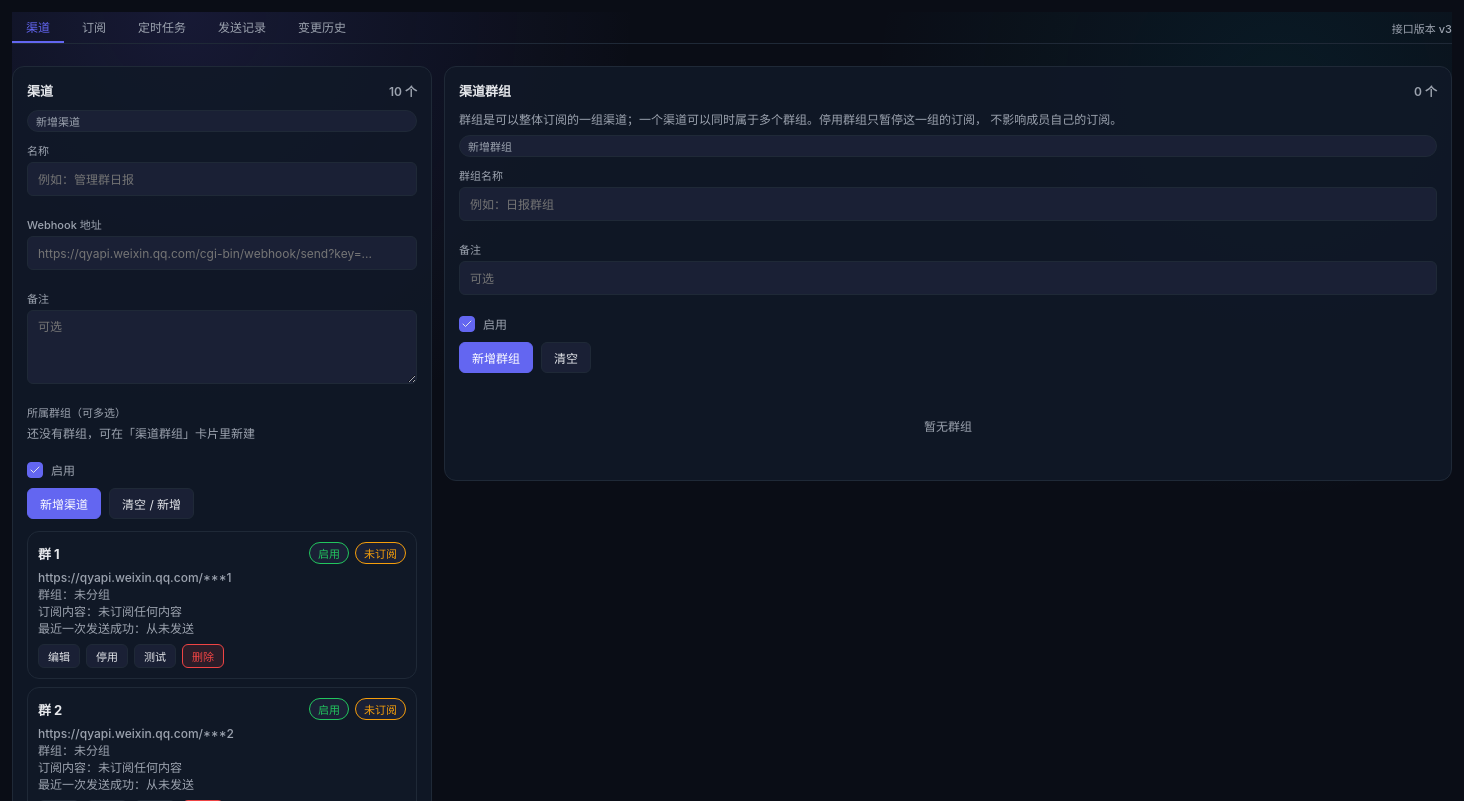
Scenario: 订阅多选列表在 0 类内容时的空态（U13） › 没有内容类型时给空态，不再让人"先选一类内容"
Click the button "订阅".
click(94, 28)  # box [68,12,120,43]
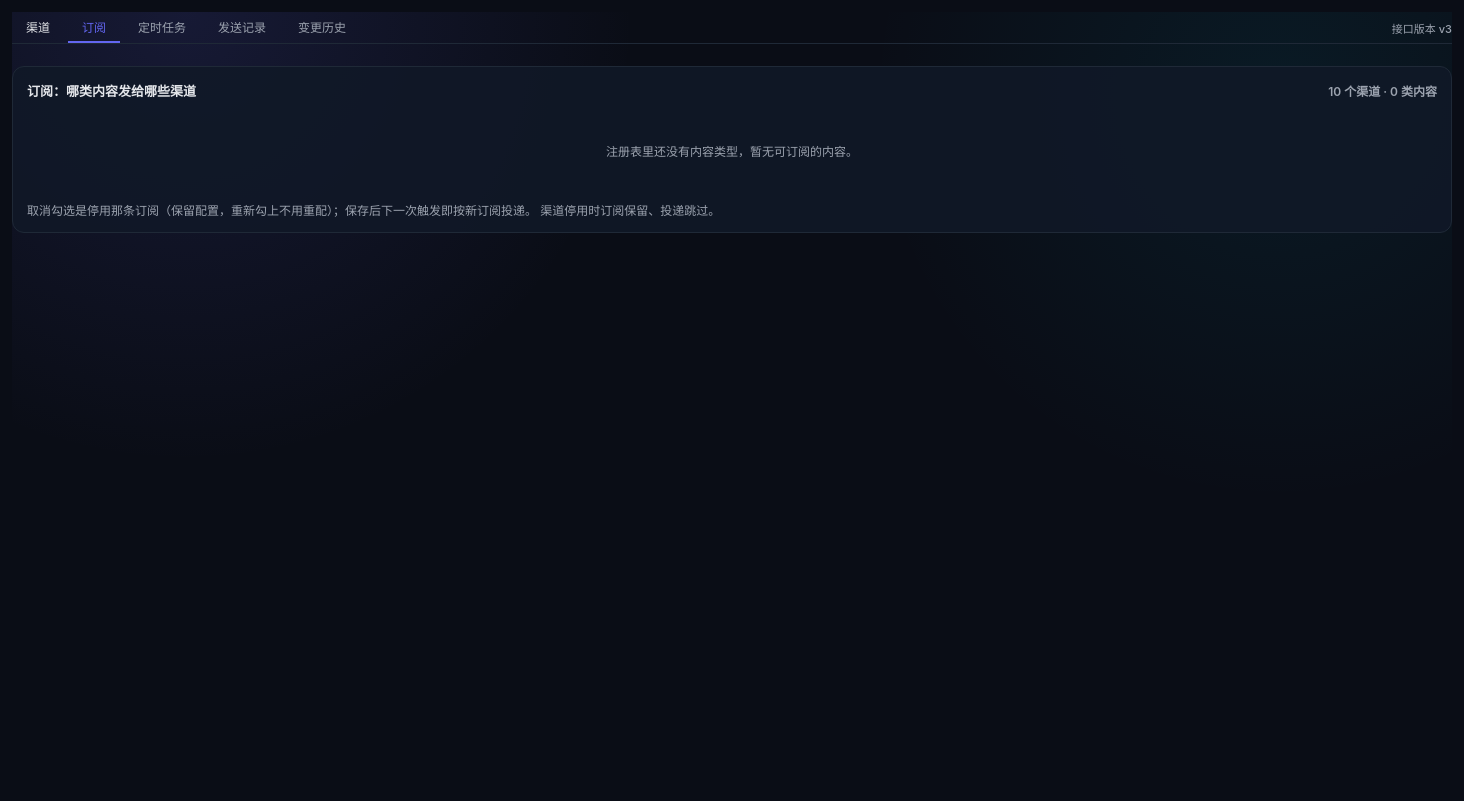
Expected: the text "注册表里还没有内容类型" is shown, [606,144,858,159]
